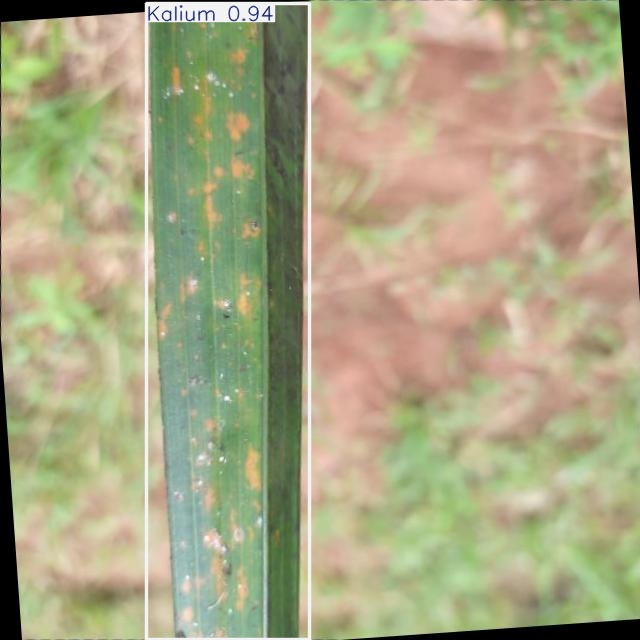Kalium: (146, 4, 310, 639)
